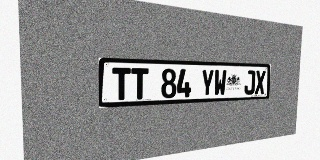4: (177, 69, 192, 98)
8: (161, 68, 177, 98)
J: (244, 70, 255, 95)
T: (112, 67, 131, 100), (131, 68, 149, 100)
W: (214, 70, 227, 96)
X: (255, 70, 266, 94)
Y: (201, 69, 214, 97)
